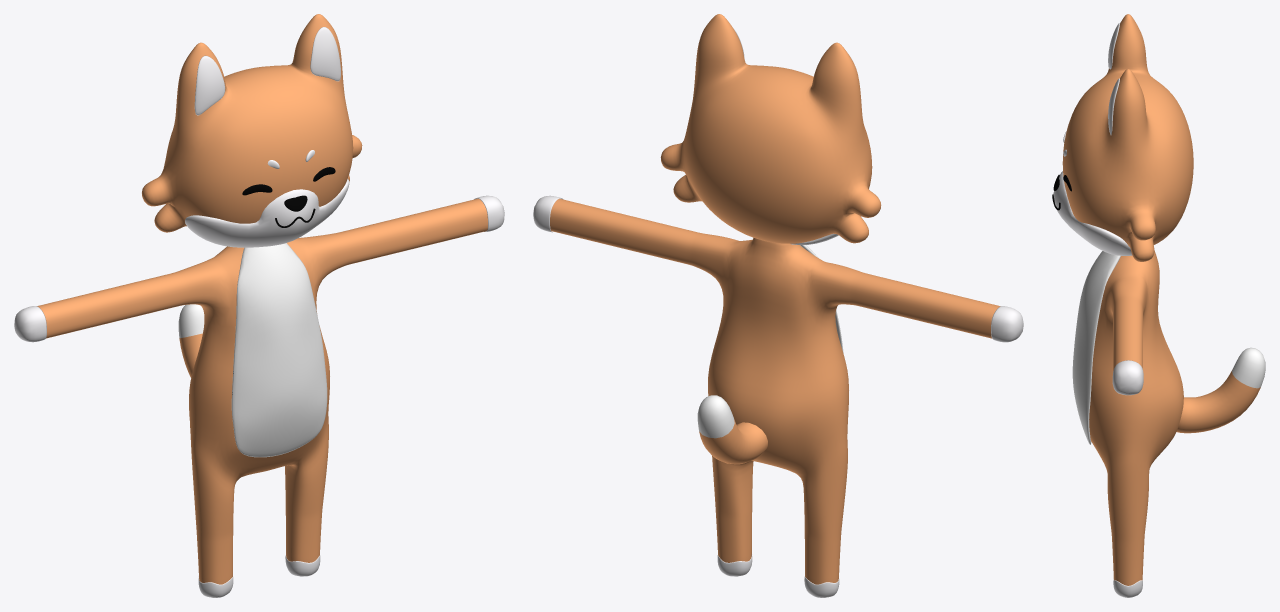
Rendered from tommy.glb.
The picture shows the model from 3 angles, left to right: view 1: azimuth 30°, elevation 25°; view 2: azimuth 150°, elevation 25°; view 3: azimuth 270°, elevation 25°; orthographic projection. The views are drawn at different scales.
Visible parts, largest first — view 1: Cube.014, Cube.006, Cube.018, Cube.015, Cube.016, Cube.017, Plane.013; view 2: Cube.014, Cube.006, Plane.013, Cube.017; view 3: Cube.006, Cube.014, Plane.013, Cube.018, Cube.015, Cube.017, Cube.016.
Part boxes in pixels (<box>): Cube.014: <box>37,198,487,584</box>; Cube.006: <box>142,14,362,232</box>; Cube.018: <box>231,243,327,457</box>; Cube.015: <box>185,179,349,247</box>; Cube.016: <box>194,27,340,115</box>; Cube.017: <box>14,195,504,597</box>; Plane.013: <box>178,304,204,377</box>; Cube.014: <box>550,198,1000,584</box>; Cube.006: <box>660,14,881,243</box>; Plane.013: <box>697,395,767,464</box>; Cube.017: <box>533,195,1023,597</box>; Cube.006: <box>1062,14,1193,261</box>; Cube.014: <box>1089,250,1183,585</box>; Plane.013: <box>1176,347,1265,433</box>; Cube.018: <box>1072,251,1120,444</box>; Cube.015: <box>1053,171,1132,255</box>; Cube.017: <box>1112,360,1143,597</box>; Cube.016: <box>1108,23,1119,135</box>.
Size of the model in its own units: 5.54 by 6.08 by 2.21.
